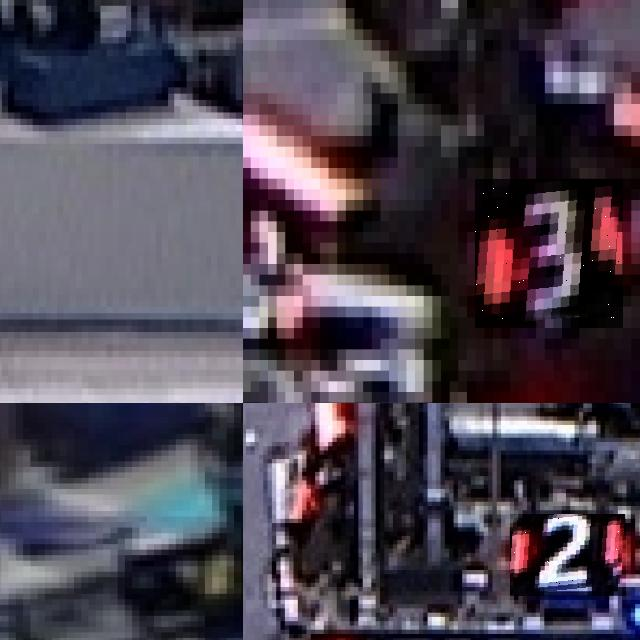R2: (510, 514, 626, 596)
R3: (475, 179, 623, 328)
